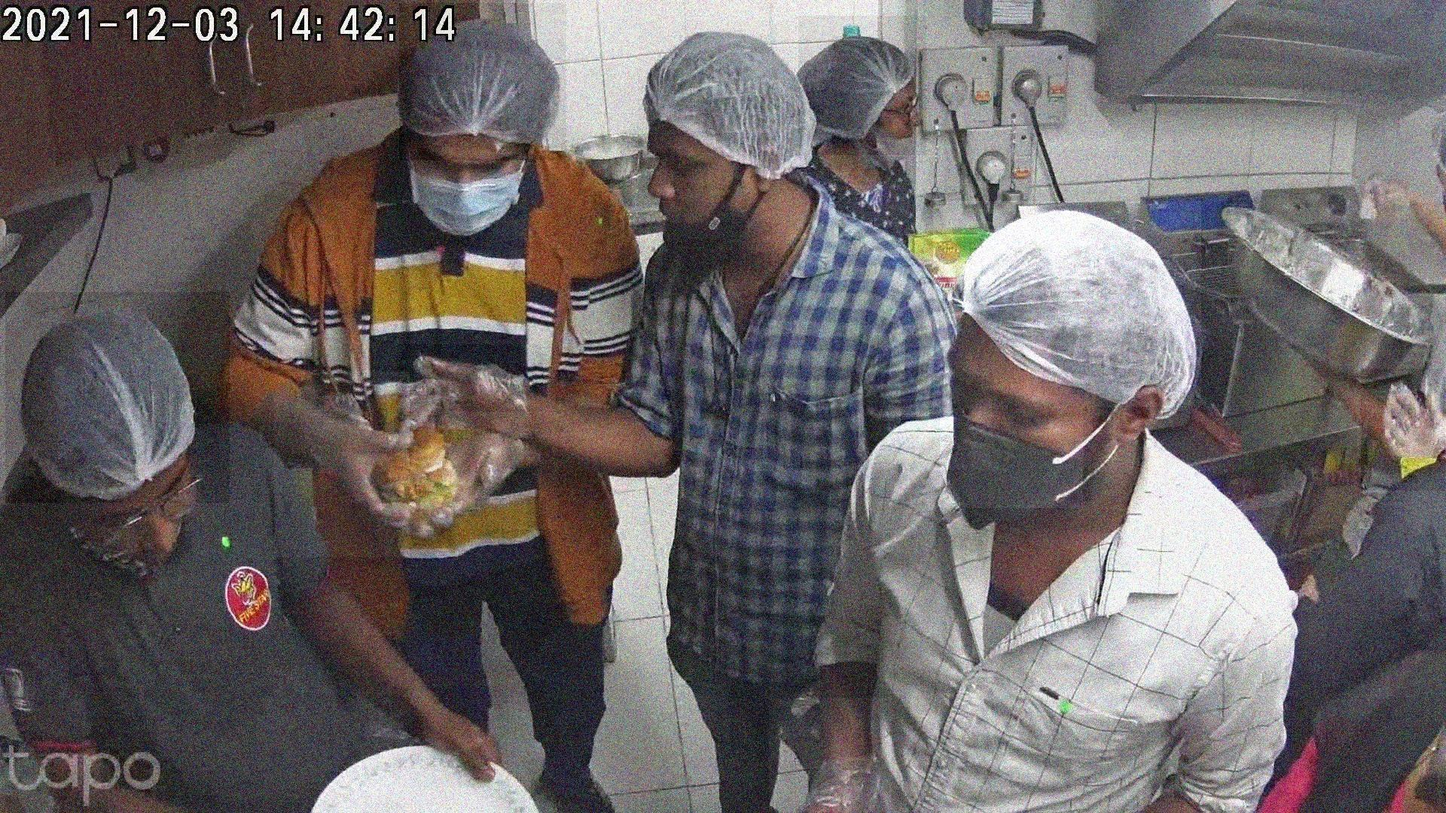apron: (274, 372, 410, 557), (397, 344, 543, 445), (769, 699, 892, 813), (442, 413, 558, 530), (1362, 370, 1446, 492)
gloves: (933, 201, 1201, 408), (6, 292, 230, 503), (638, 21, 821, 190), (400, 3, 567, 160), (799, 16, 927, 155)
mask: (940, 368, 1083, 508), (413, 135, 526, 236)
no_apron: (392, 686, 508, 788)
no_hairnet: (72, 463, 193, 565), (645, 117, 720, 239), (866, 79, 923, 156)
